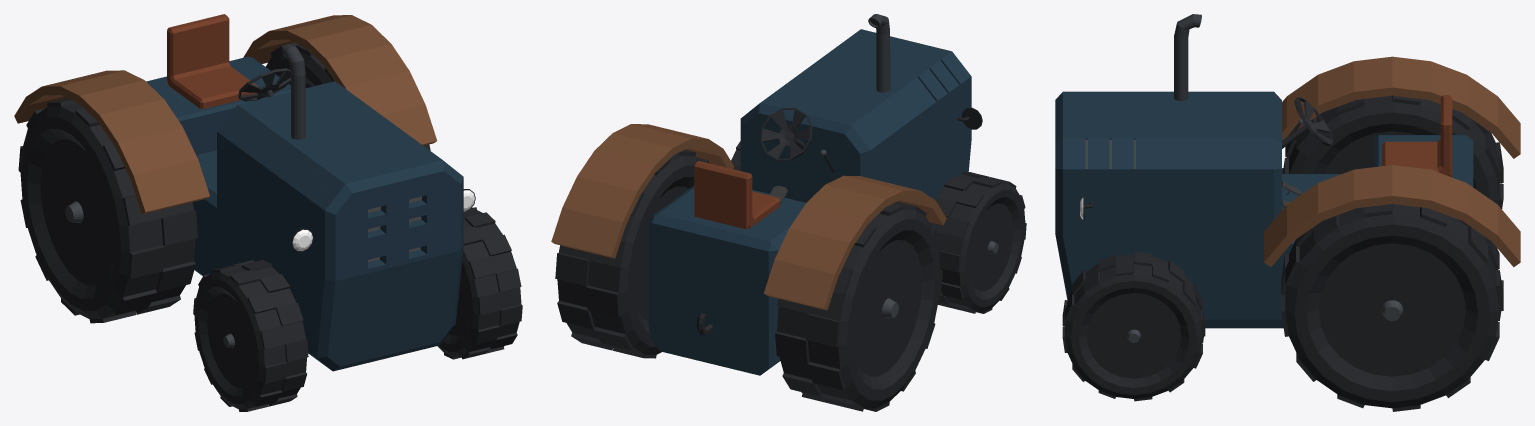
File: TractorOld_2.fbx
3 renders of one model, left to right at view 1: azimuth 30°, elevation 25°; view 2: azimuth 150°, elevation 25°; view 3: azimuth 270°, elevation 25°, orthographic. The views are drawn at different scales.
Visible parts, largest first — view 1: TractorOld_2, TractorOld_2.002, TractorOld_2.001; view 2: TractorOld_2, TractorOld_2.002, TractorOld_2.001; view 3: TractorOld_2, TractorOld_2.002, TractorOld_2.001.
Part boxes in pixels (x1,y1,x2,y2): TractorOld_2: (14,14,475,371); TractorOld_2.002: (18,42,430,323); TractorOld_2.001: (193,207,522,411); TractorOld_2: (551,14,982,375); TractorOld_2.002: (555,150,942,411); TractorOld_2.001: (731,141,1026,313); TractorOld_2: (1055,14,1520,328); TractorOld_2.002: (1281,95,1503,411); TractorOld_2.001: (1062,251,1205,401).
Bounding box in the file's own units: 240 × 232 × 317.
